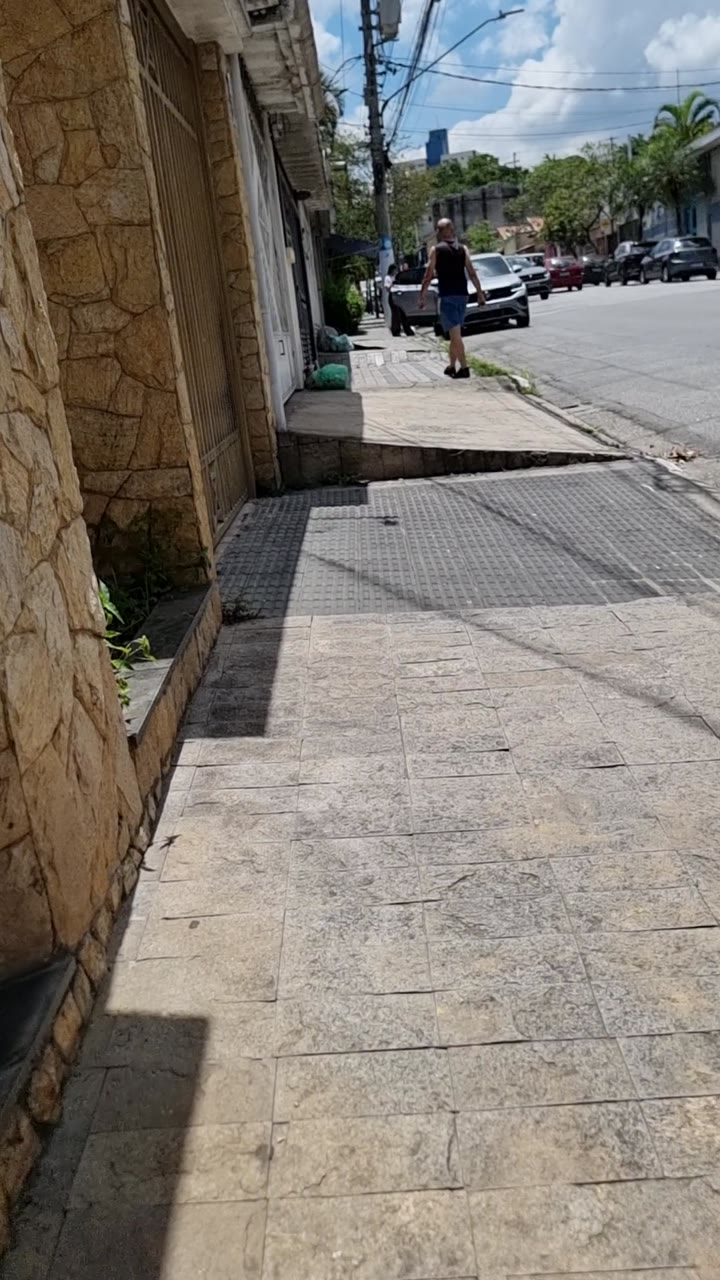desnivel: (252, 371, 720, 461)
obstaculo: (302, 346, 346, 397)
